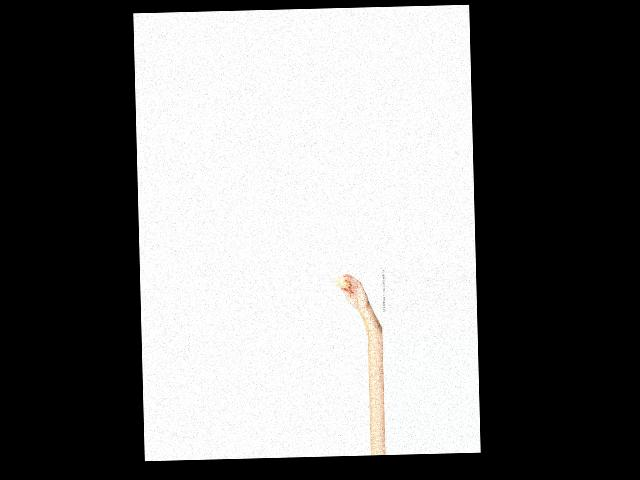egg: (334, 276, 351, 289)
